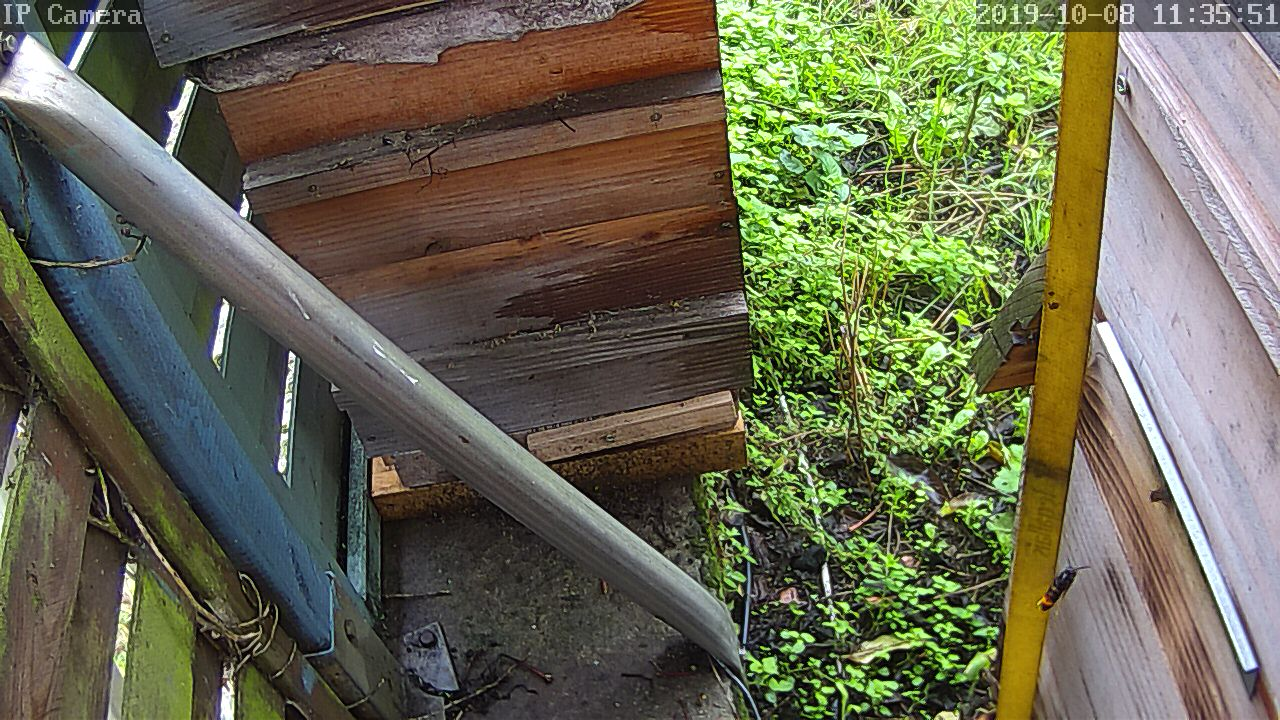bee: (1147, 479, 1183, 517)
hornet: (1034, 563, 1089, 618)
